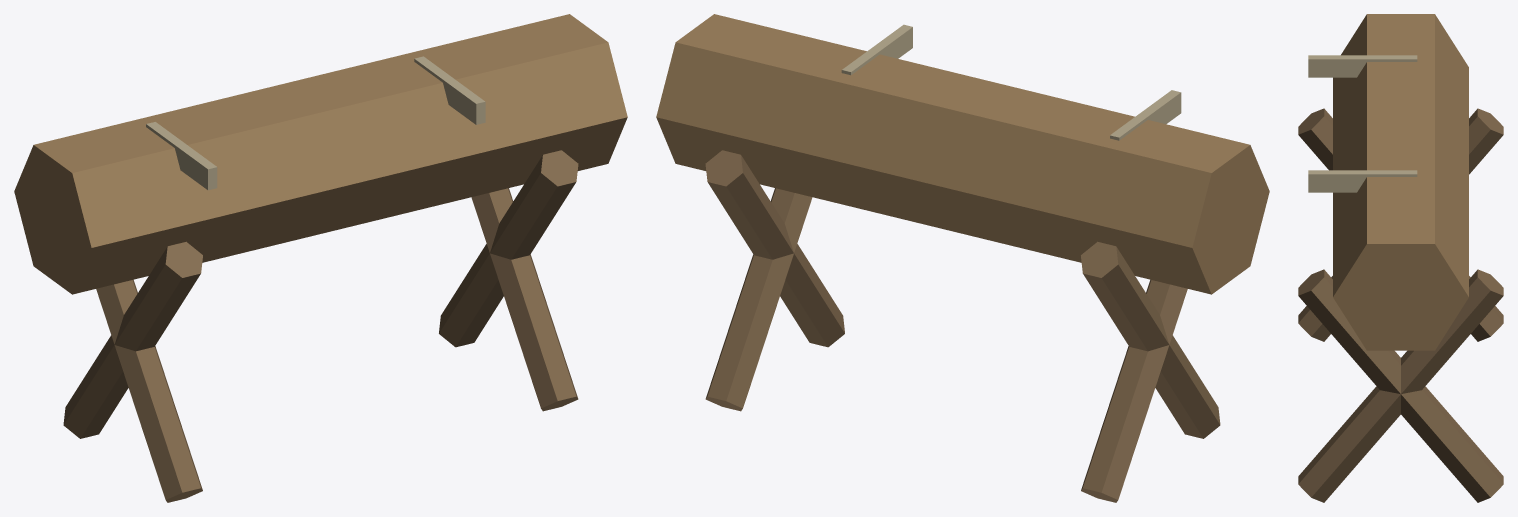
The model's file is map-exclusive-v3__ridge_07.glb.
The picture shows the model from 3 angles, left to right: view 1: azimuth 30°, elevation 25°; view 2: azimuth 150°, elevation 25°; view 3: azimuth 270°, elevation 25°; orthographic projection. The views are drawn at different scales.
Parts seen in each view (by area): view 1: ridge_07; view 2: ridge_07; view 3: ridge_07.
Boxes of the visible parts, x1=… form: ridge_07: x1=14, y1=14, x2=627, y2=502; ridge_07: x1=656, y1=14, x2=1269, y2=502; ridge_07: x1=1298, y1=14, x2=1503, y2=502.
Size of the model in its own units: 2 by 1.19 by 0.7553.
